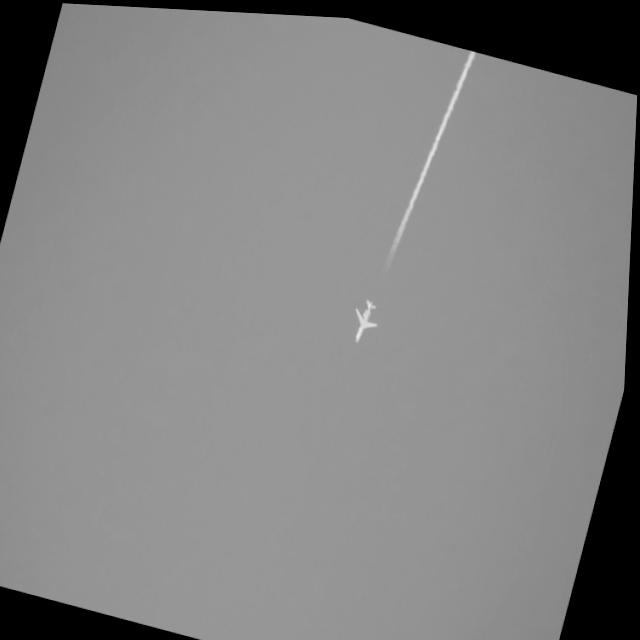aeroplane: (347, 285, 388, 348)
